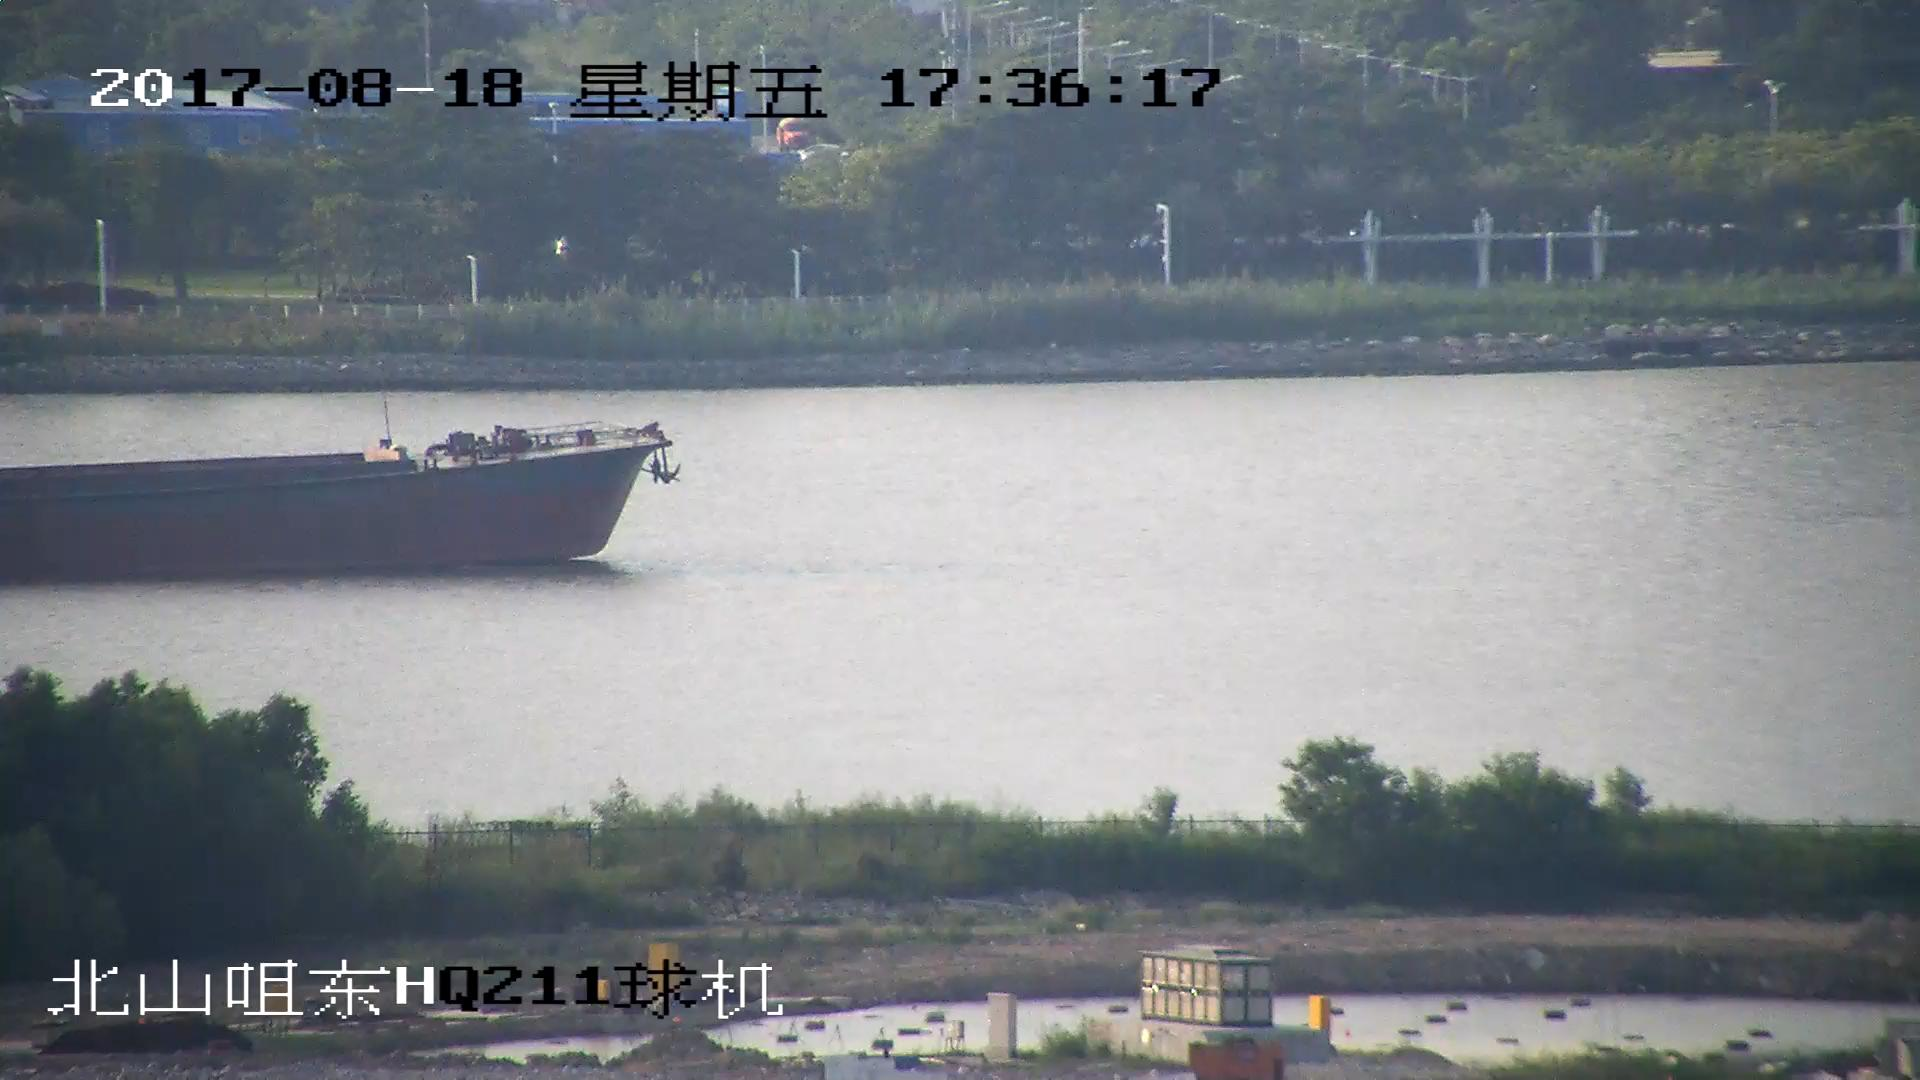bulk cargo carrier: (1, 416, 671, 582)
